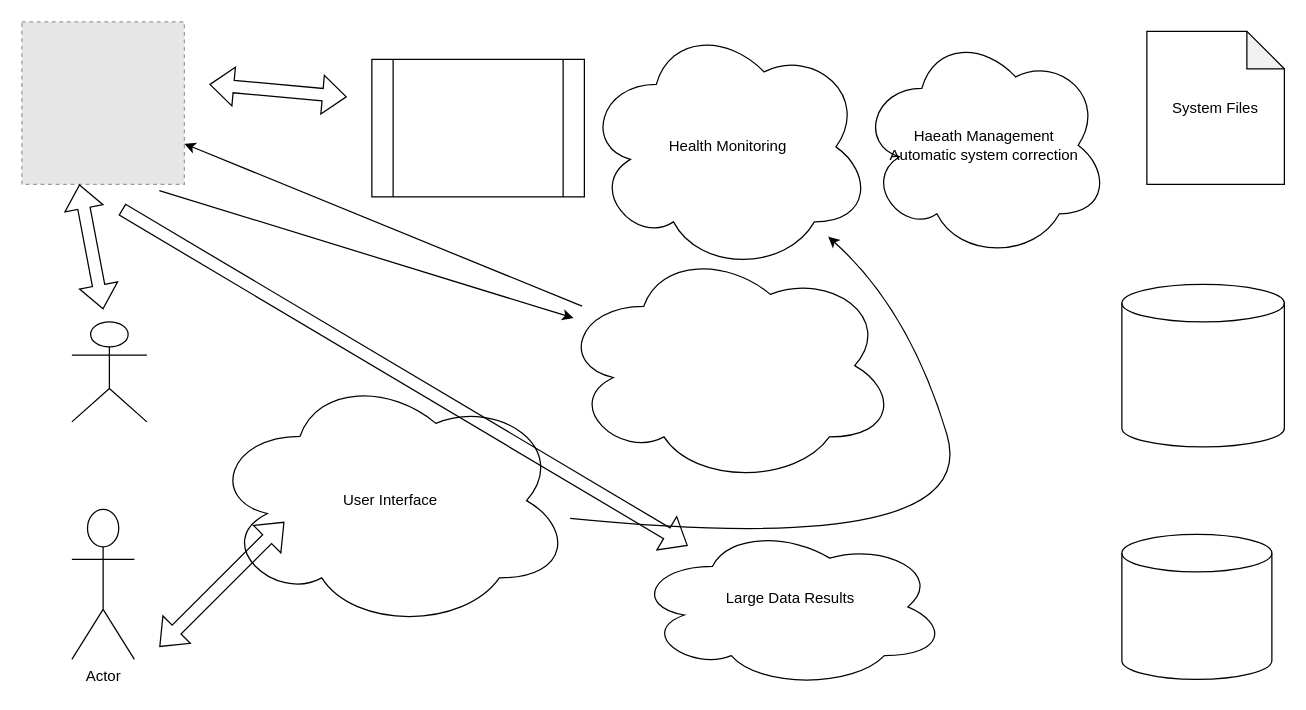
This 1306x710 diagram has some shape labels left out. Grey dashed boxes stand in for pictures. The shapes that lost their labels are listed below. From the top down, each one's centre as x and y in pixels, then its label:
At pixel 477 127: "Load Balancing".
At pixel 109 371: "Tech".
At pixel 727 365: "Device Update".
